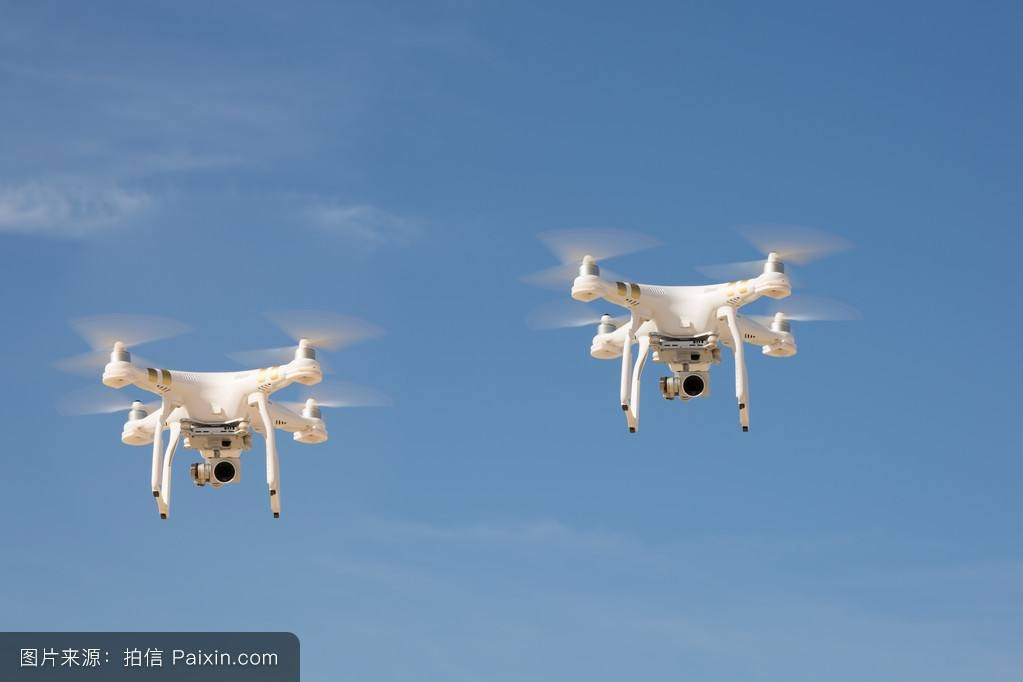DJI: (569, 243, 820, 440), (97, 333, 337, 525)
